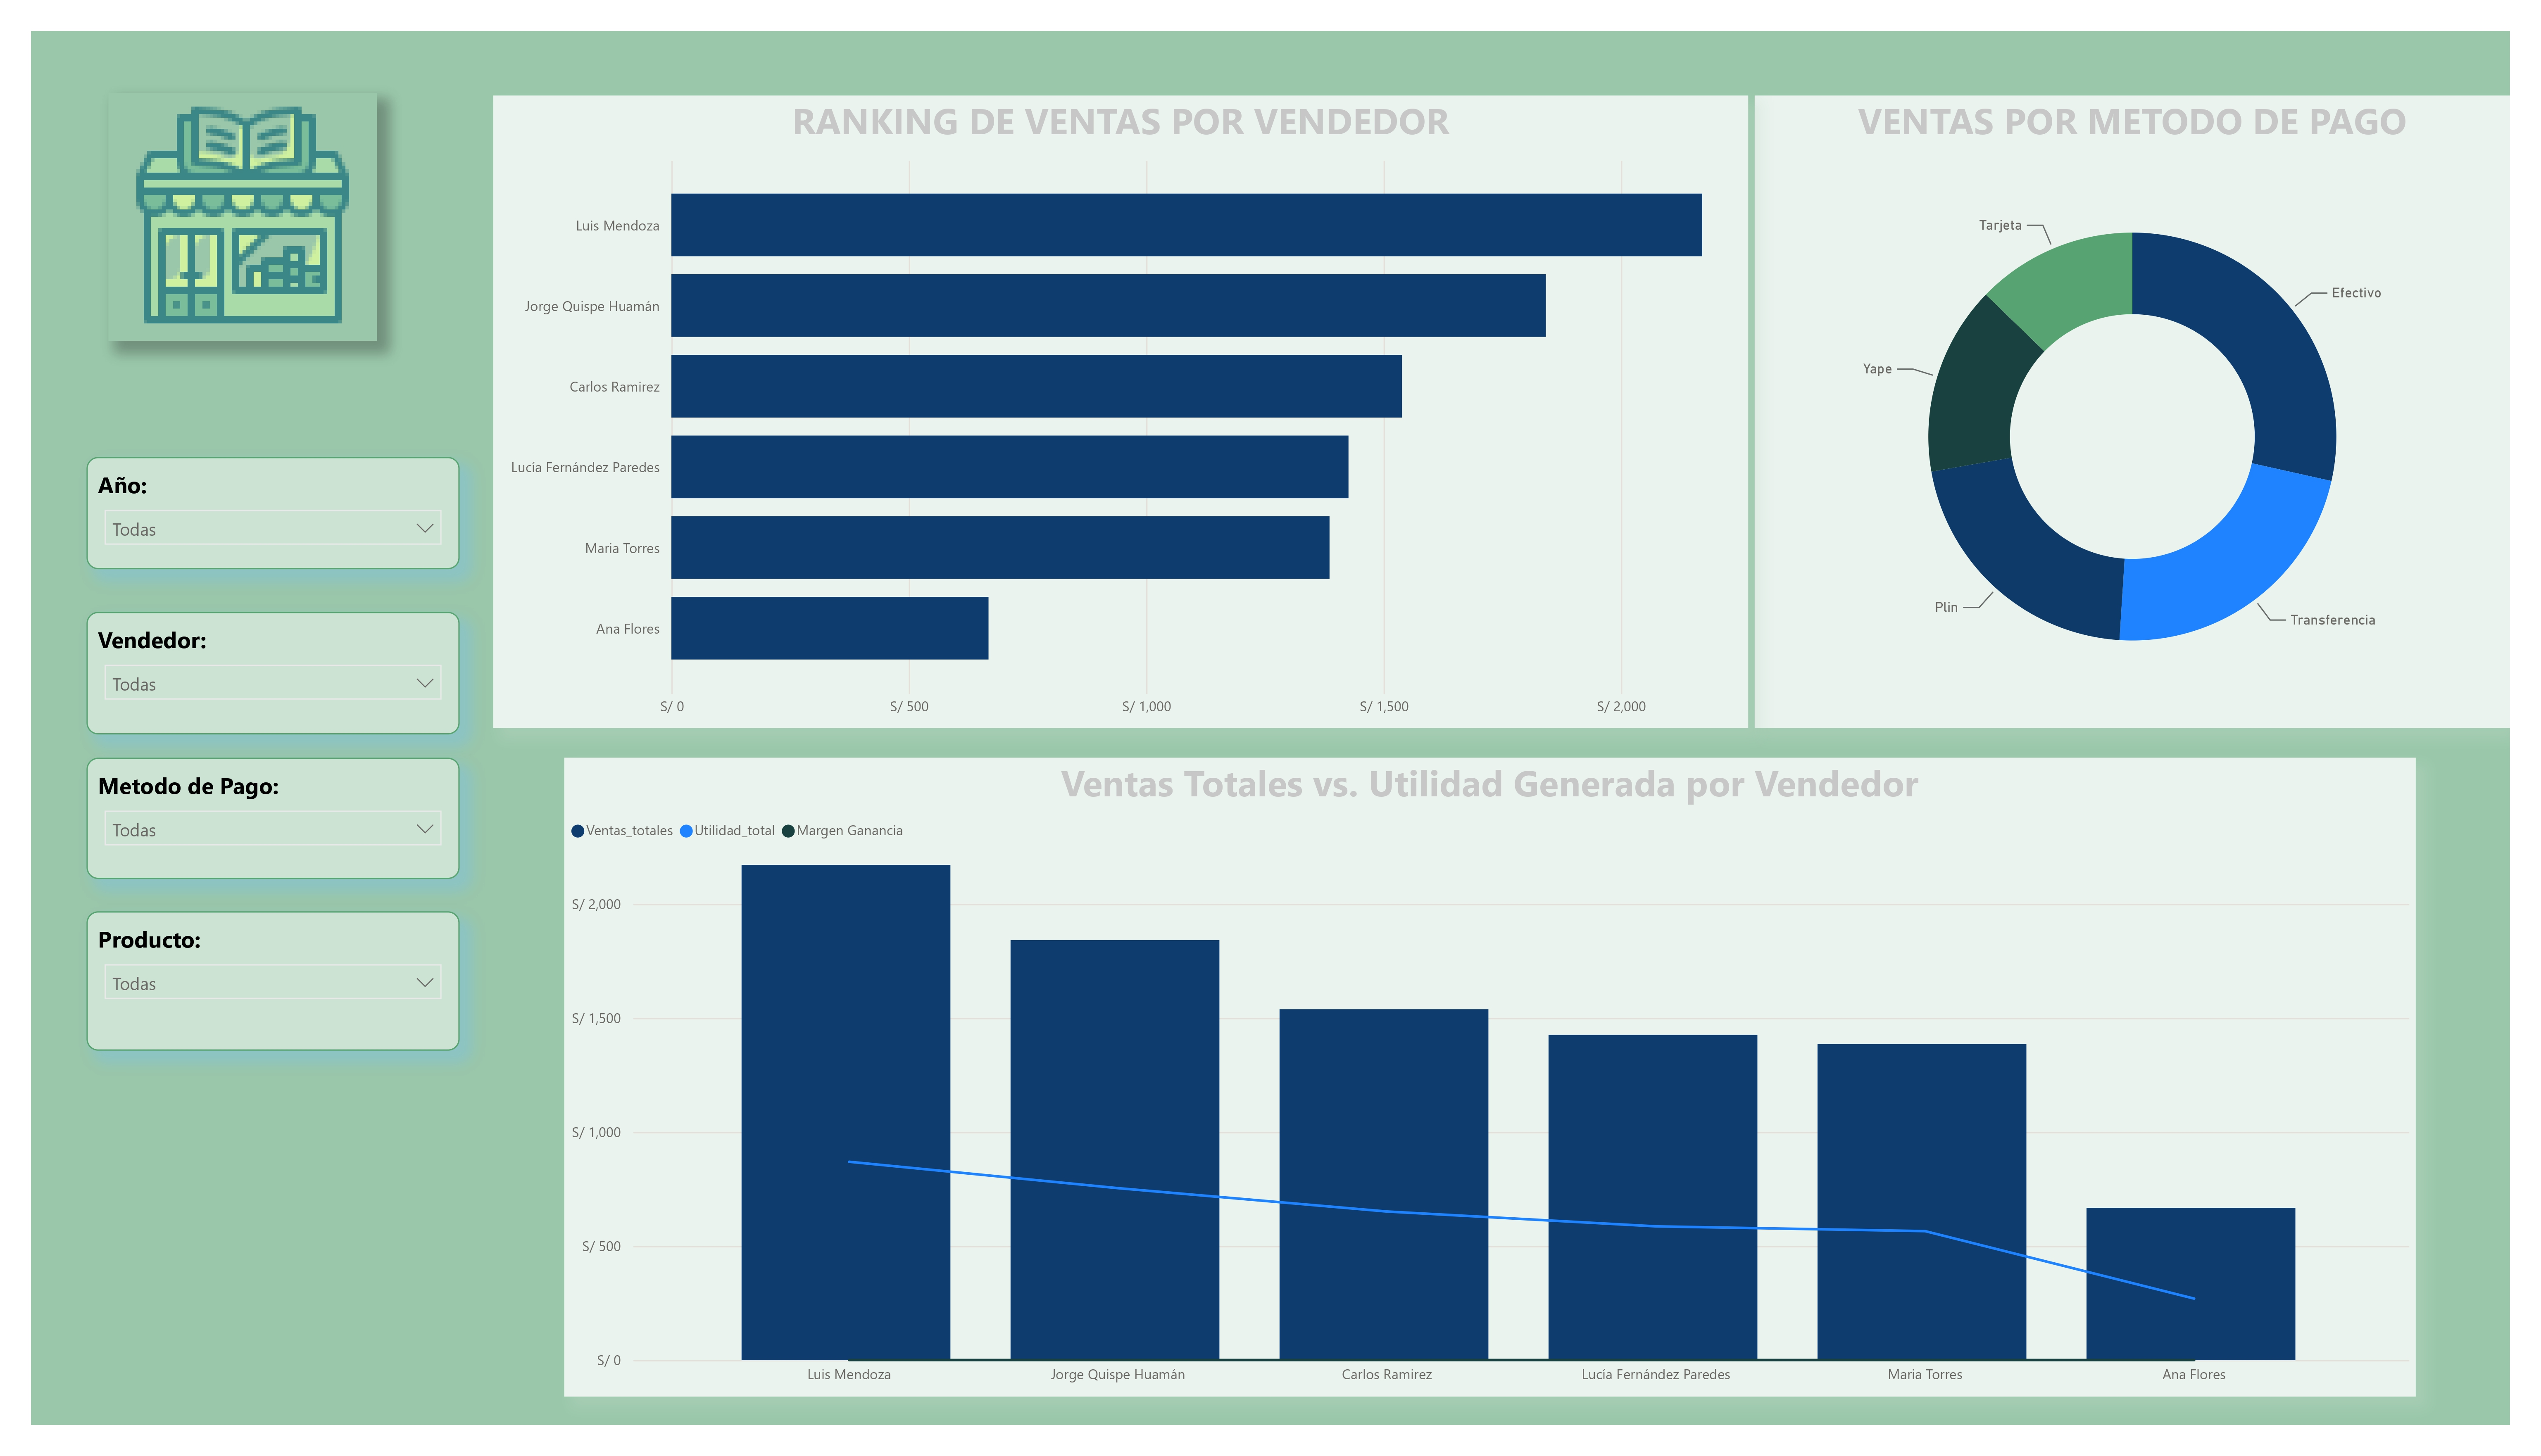

The dashboard page shown, as its layout file describes it:
{"tool":"powerbi","page":{"name":"EMPLEADOS","canvas":[1920,1080],"ordinal":1},"visuals":[{"type":"donutChart","title":"VENTAS POR METODO DE PAGO","fields":{"Category":["dim_metodoPago.nombreMetodo"],"Y":["fac_ventas.Ventas_totales"]},"box":[1335,50,585,490],"z":0},{"type":"clusteredBarChart","title":"RANKING DE VENTAS POR VENDEDOR","fields":{"Category":["dim_vendedor.nombre"],"Y":["fac_ventas.Ventas_totales"]},"box":[358.3,50,971.7,490],"z":1000},{"type":"image","box":[60,48.3,208.3,191.7],"z":2000},{"type":"slicer","fields":{"Values":["dim_tiempo.anio"]},"box":[43.3,330,288.3,86.7],"z":3000},{"type":"slicer","fields":{"Values":["dim_producto.nombre"]},"box":[43.3,681.7,288.3,108.3],"z":4000},{"type":"slicer","fields":{"Values":["dim_vendedor.nombre"]},"box":[43.3,450,288.3,95],"z":5000},{"type":"slicer","fields":{"Values":["dim_metodoPago.nombreMetodo"]},"box":[43.3,563.3,288.3,93.3],"z":6000},{"type":"lineStackedColumnComboChart","title":"Ventas Totales vs. Utilidad Generada por Vendedor","fields":{"Category":["dim_vendedor.nombre"],"Y":["fac_ventas.Ventas_totales"],"Y2":["fac_ventas.Utilidad_total","fac_ventas.Margen Ganancia"]},"box":[413.3,563.3,1433.3,495],"z":7000}]}

Visuals, with their boxes on the page's 1920x1080 design canvas (x1, y1, x2, y2). These are canvas units, not pixel positions in the 2541x1456 screenshot, which may show the page scaled, cropped or inside an application window:
"VENTAS POR METODO DE PAGO" donutChart: [1335, 50, 1920, 540]
"RANKING DE VENTAS POR VENDEDOR" clusteredBarChart: [358, 50, 1330, 540]
image: [60, 48, 268, 240]
slicer - dim_tiempo.anio: [43, 330, 332, 417]
slicer - dim_producto.nombre: [43, 682, 332, 790]
slicer - dim_vendedor.nombre: [43, 450, 332, 545]
slicer - dim_metodoPago.nombreMetodo: [43, 563, 332, 657]
"Ventas Totales vs. Utilidad Generada por Vendedor" lineStackedColumnComboChart: [413, 563, 1847, 1058]
